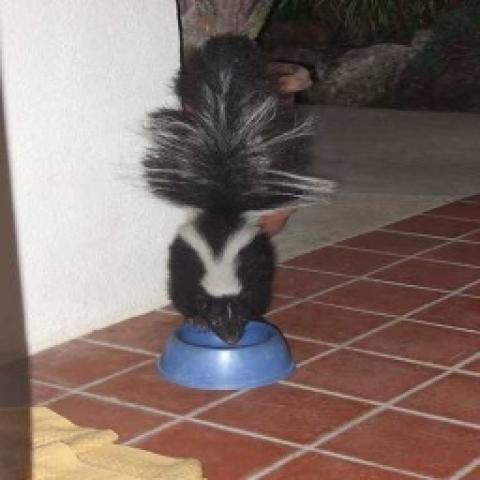small_animal: (135, 30, 334, 345)
